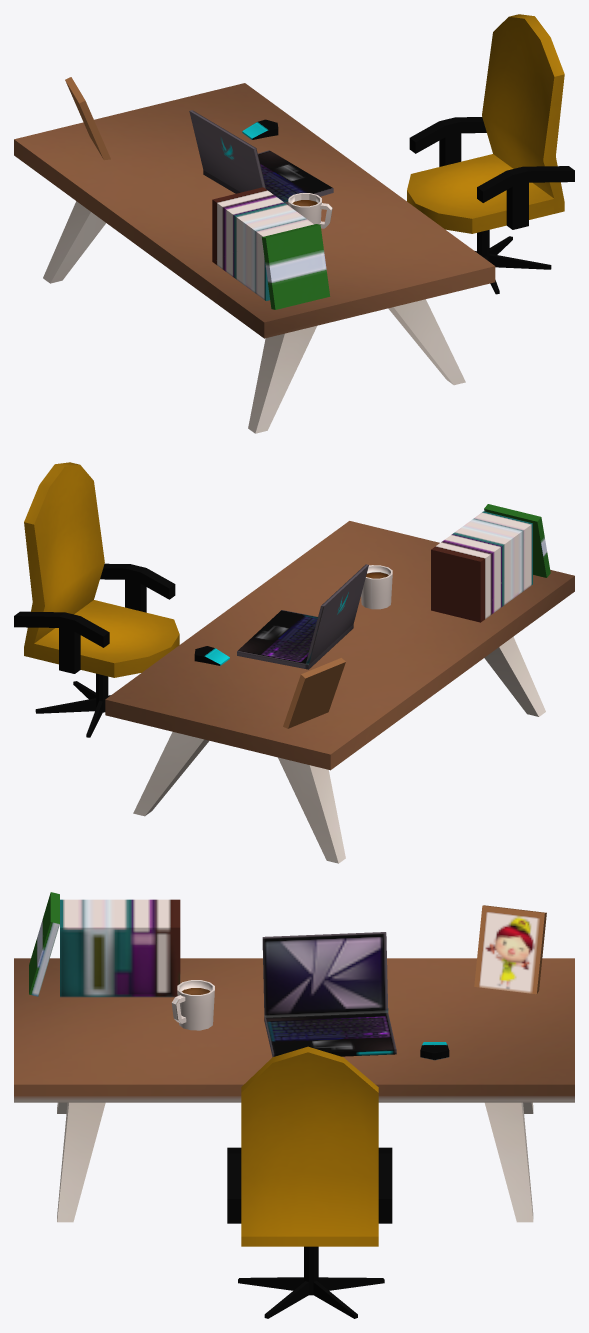
File: Lux_Comp_T4.fbx
3 renders of one model, top to bottom at view 1: azimuth 30°, elevation 25°; view 2: azimuth 150°, elevation 25°; view 3: azimuth 270°, elevation 25°, orthographic. The views are drawn at different scales.
Visible parts, largest first — view 1: Lux_Comp_T4; view 2: Lux_Comp_T4; view 3: Lux_Comp_T4.
Part boxes in pixels (x1,y1,x2,y2): Lux_Comp_T4: (14,14,574,433); Lux_Comp_T4: (14,462,574,863); Lux_Comp_T4: (14,892,574,1318).
Bounding box in the file's own units: 10.76 × 6.08 × 11.49.
1 material, 1 textured.
